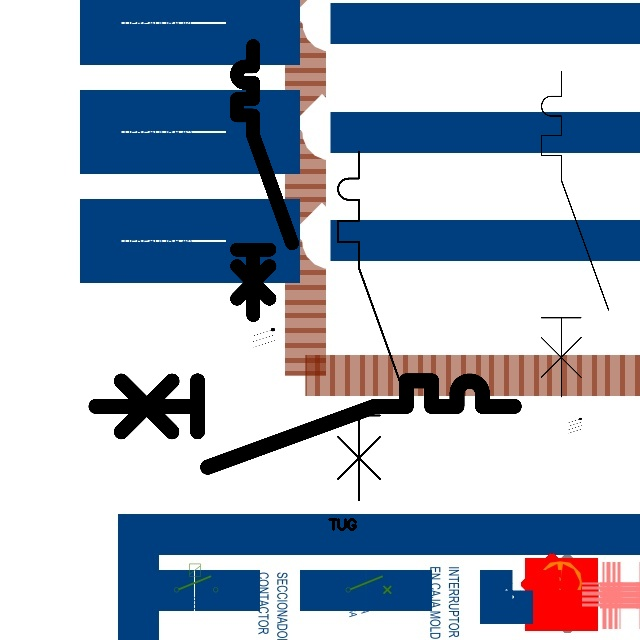interruptor_termomagnetico: (85, 370, 525, 477), (329, 143, 418, 509), (533, 63, 617, 405), (230, 39, 299, 322)
